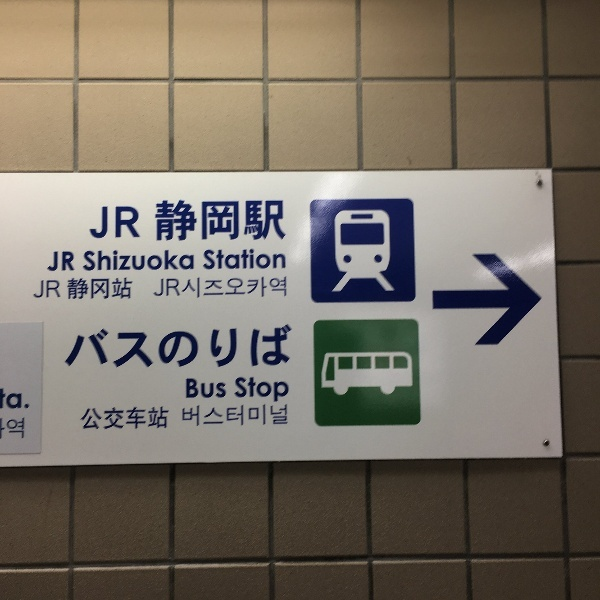text: (81, 320, 96, 370), (97, 320, 112, 370), (113, 320, 128, 370), (129, 320, 144, 370), (145, 320, 160, 370), (161, 320, 176, 370), (177, 320, 192, 370), (193, 320, 208, 370), (209, 320, 224, 370), (225, 320, 240, 370), (241, 320, 256, 370), (257, 320, 272, 370), (273, 320, 288, 370), (161, 199, 176, 242), (177, 199, 192, 242), (193, 199, 208, 242), (209, 199, 224, 242), (225, 199, 240, 242), (241, 199, 256, 242), (257, 199, 272, 242), (273, 199, 286, 242), (97, 205, 112, 240), (113, 205, 128, 240), (241, 376, 256, 407), (257, 376, 272, 407), (273, 376, 288, 407), (129, 205, 141, 240), (49, 249, 64, 276), (97, 406, 112, 433), (113, 406, 128, 433), (129, 406, 144, 433), (145, 406, 160, 433), (97, 248, 112, 274), (113, 248, 128, 274), (129, 248, 144, 274), (145, 248, 160, 274), (161, 248, 176, 274), (177, 248, 192, 274), (81, 276, 96, 302), (97, 276, 112, 302), (113, 276, 128, 302), (161, 276, 176, 301), (193, 404, 208, 429), (209, 404, 224, 429), (225, 404, 240, 429), (241, 404, 256, 429), (257, 404, 272, 429), (273, 404, 288, 429), (66, 276, 80, 302), (193, 379, 208, 402), (209, 379, 224, 402), (209, 248, 224, 271), (225, 248, 240, 271), (241, 248, 256, 271), (257, 248, 272, 271), (193, 276, 208, 299), (209, 276, 224, 299), (225, 276, 240, 299), (241, 276, 256, 299), (257, 276, 272, 299), (83, 248, 96, 274), (65, 249, 77, 276), (273, 276, 287, 299), (273, 248, 286, 271), (35, 278, 48, 301), (85, 406, 96, 433), (49, 278, 61, 301), (154, 199, 160, 242), (289, 320, 294, 370), (17, 391, 30, 410), (89, 205, 96, 240), (183, 404, 192, 429), (161, 406, 169, 433), (183, 379, 192, 402), (76, 320, 80, 370), (6, 391, 16, 410), (184, 276, 192, 299), (235, 376, 240, 407), (154, 276, 160, 301), (203, 248, 208, 271), (193, 248, 197, 274), (129, 276, 133, 302), (177, 276, 181, 301), (225, 379, 229, 402), (289, 376, 291, 407)
